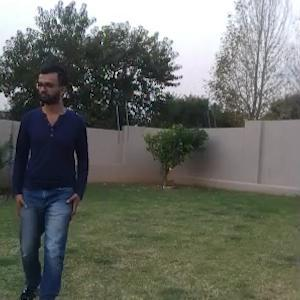follow: (11, 59, 88, 296)
